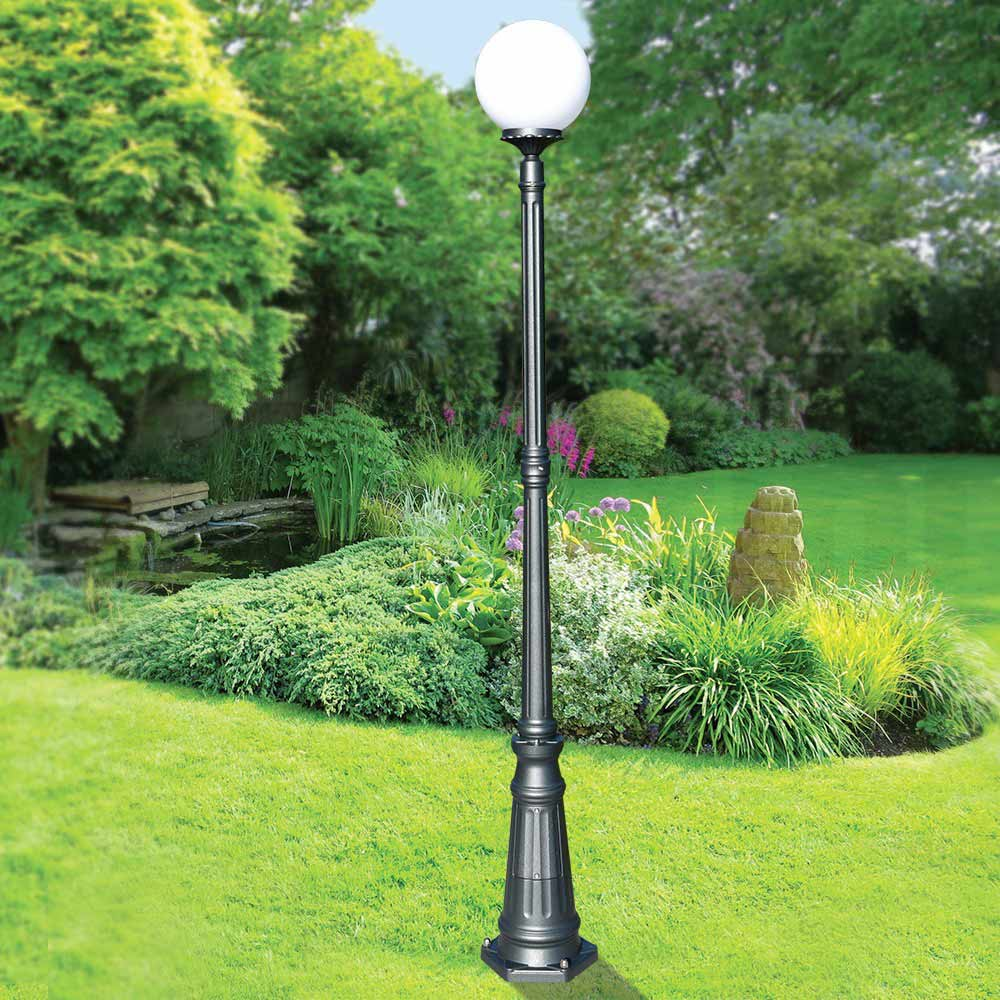Lamp: (464, 20, 635, 983)
